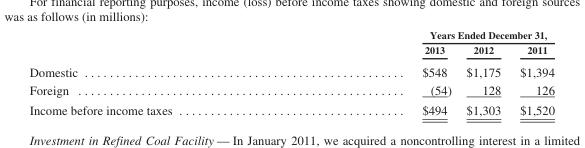table: (28, 28, 553, 116)
table column: (28, 28, 296, 116), (296, 28, 458, 116), (458, 28, 509, 116), (509, 28, 553, 116)
table column header: (28, 28, 553, 60)
table row: (28, 60, 553, 80), (28, 80, 553, 99), (28, 42, 553, 60), (28, 99, 553, 116), (28, 28, 553, 42)
table spanning cell: (296, 28, 553, 42)
